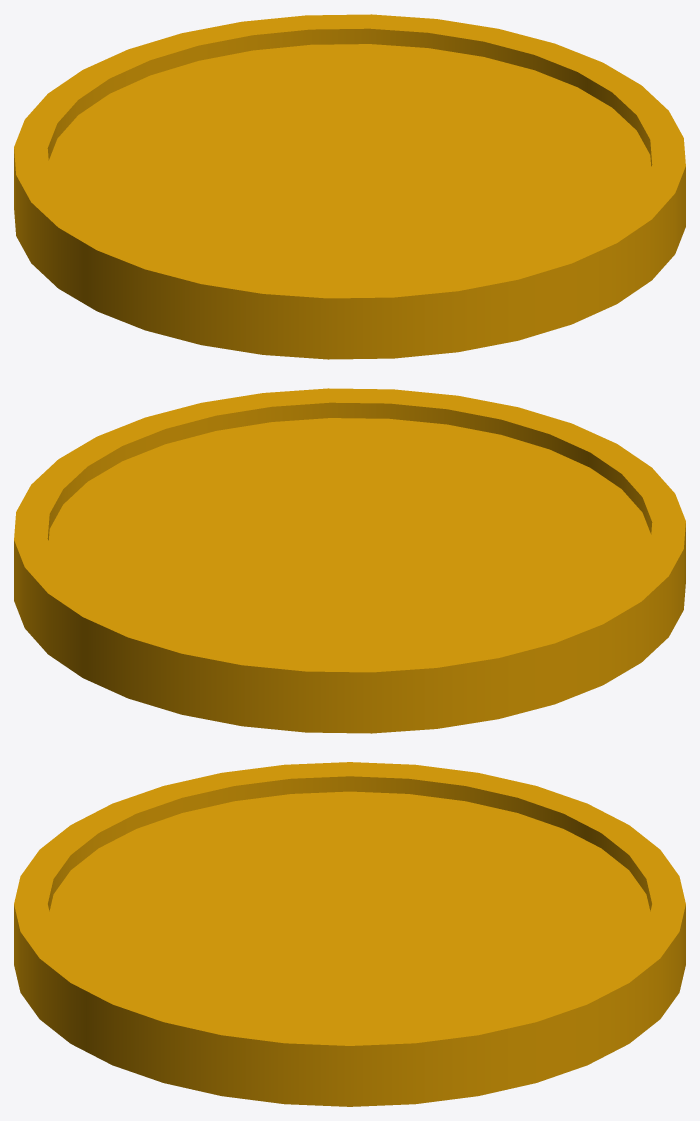
File: Coin-low-poly.fbx
The picture shows the model from 3 angles, top to bottom: view 1: azimuth 30°, elevation 25°; view 2: azimuth 150°, elevation 25°; view 3: azimuth 270°, elevation 25°; orthographic projection.
Visible parts, largest first — view 1: Cylinder; view 2: Cylinder; view 3: Cylinder.
Part boxes in pixels (x1,y1,x2,y2): Cylinder: (14,14,685,359); Cylinder: (14,388,685,733); Cylinder: (14,762,685,1106).
Bounding box in the file's own units: 200 × 20 × 200.
